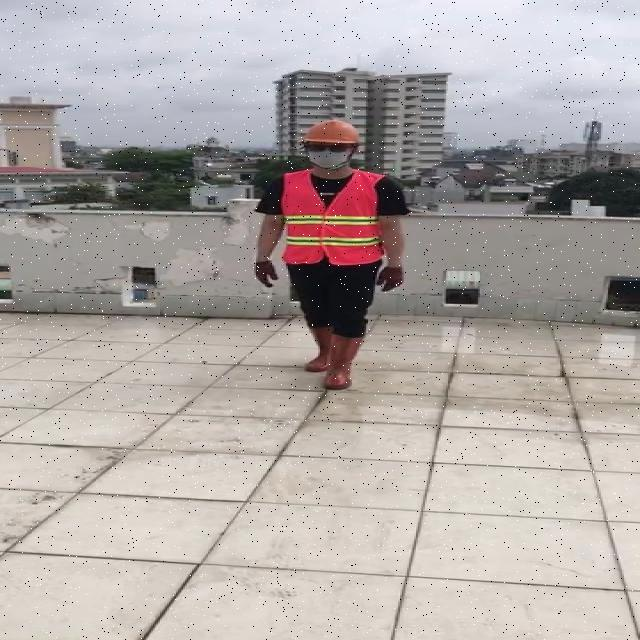Hard_hat: (298, 120, 362, 145)
Person: (252, 117, 414, 429)
Vest: (282, 169, 383, 270)
